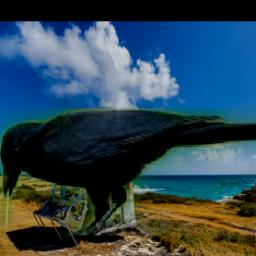Crow: (0, 108, 256, 236)
